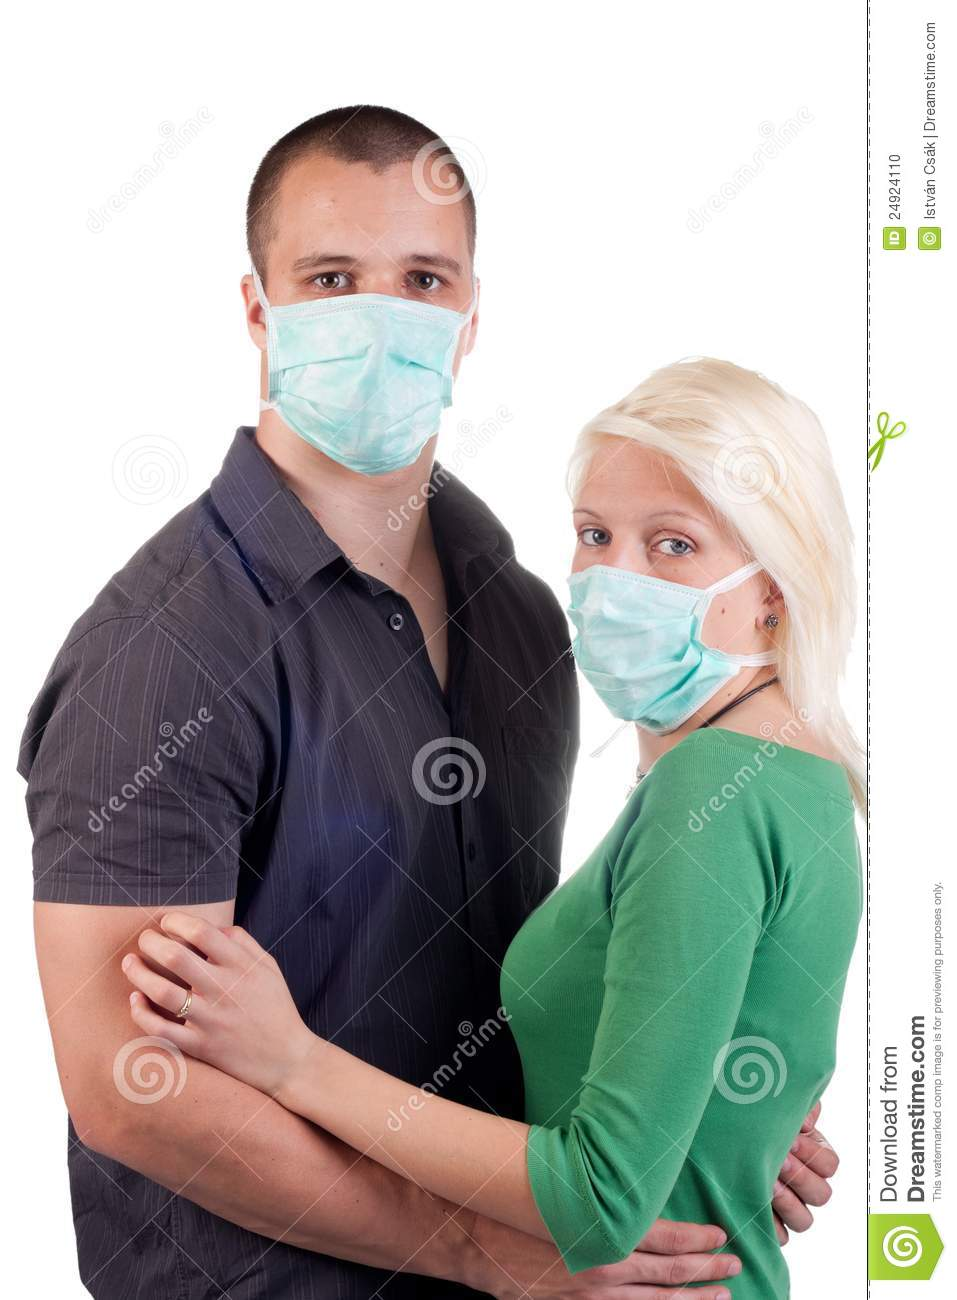mask: (265, 295, 456, 474), (572, 565, 722, 724)
